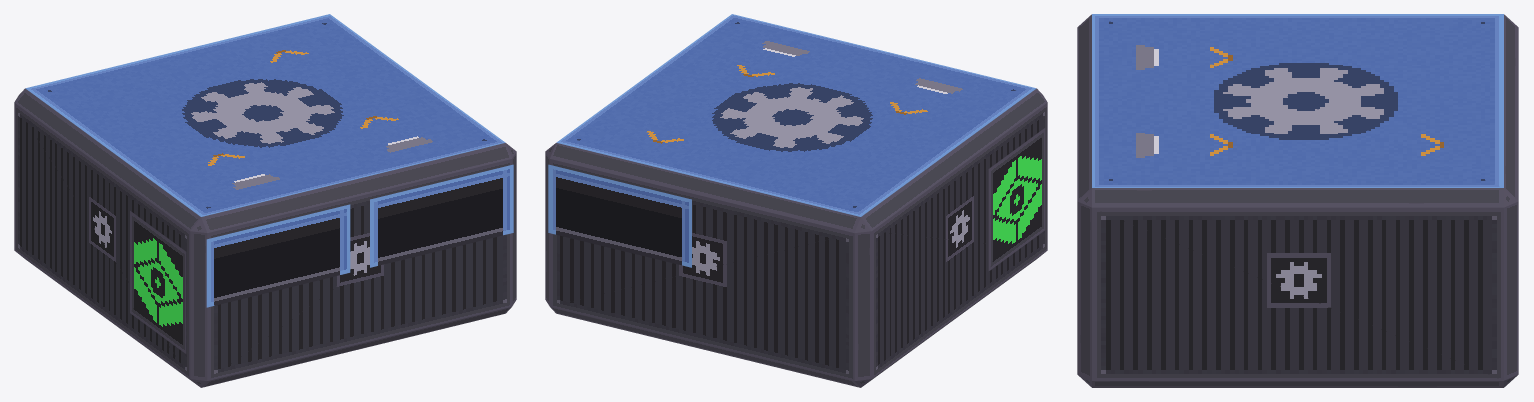
The model's file is comp_factory.glb.
The picture shows the model from 3 angles, left to right: view 1: azimuth 30°, elevation 25°; view 2: azimuth 150°, elevation 25°; view 3: azimuth 270°, elevation 25°; orthographic projection. The views are drawn at different scales.
Parts seen in each view (by area): view 1: comp_factory_body; view 2: comp_factory_body; view 3: comp_factory_body.
Part boxes in pixels (bbox=[...]): comp_factory_body: bbox=[14, 14, 516, 387]; comp_factory_body: bbox=[545, 14, 1047, 387]; comp_factory_body: bbox=[1077, 14, 1518, 387].
Size of the model in its own units: 2 by 1 by 2.01.
1 material, 1 textured.
